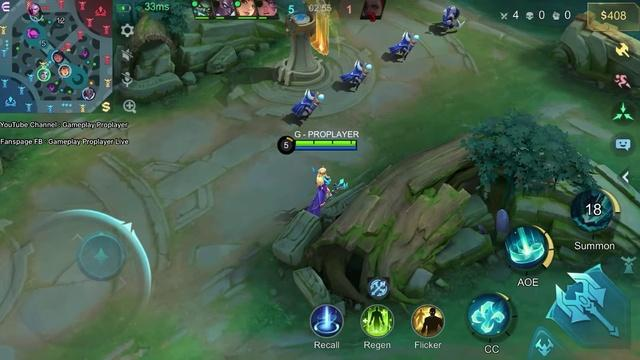Adc_Aliado: (82, 88, 96, 100)
Esbirro_Aliado: (291, 89, 324, 120), (339, 60, 372, 91), (389, 32, 415, 60), (440, 5, 459, 28)
Exp_Aliado: (30, 10, 44, 23)
Exp_Enemigo: (28, 3, 39, 15)
HP_Heroe_Principal: (295, 141, 357, 146)
Hechizo_Batalla: (411, 304, 444, 337)
Jungla_Aliado: (59, 64, 72, 78)
Mana: (294, 146, 357, 150)
Mid_Aliado: (37, 68, 51, 83)
Minimapa: (0, 0, 113, 113)
Roamer_Aliado: (51, 50, 64, 62)
Skill1: (468, 293, 511, 336)
Skill2: (504, 225, 553, 268)
Torre_Aliada: (278, 0, 330, 85)
Tortuga_mapa: (25, 27, 40, 40)
Vexana: (306, 167, 347, 216)
